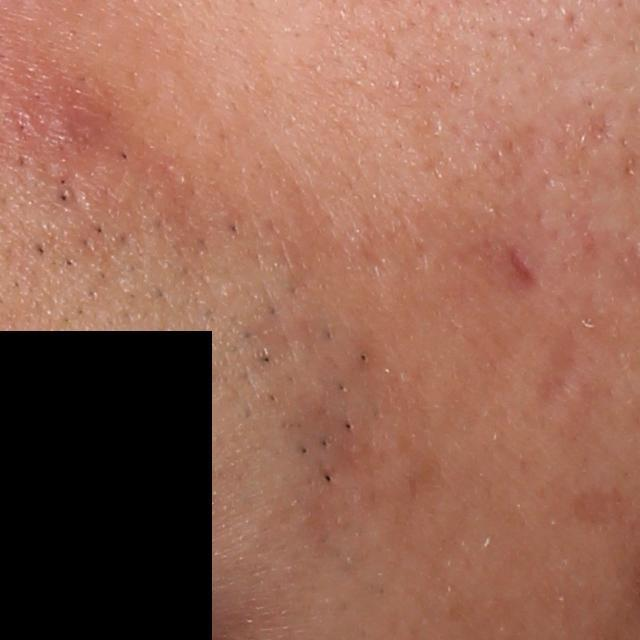atrophic_scar: (538, 327, 591, 407), (509, 243, 543, 289), (572, 110, 616, 144)
